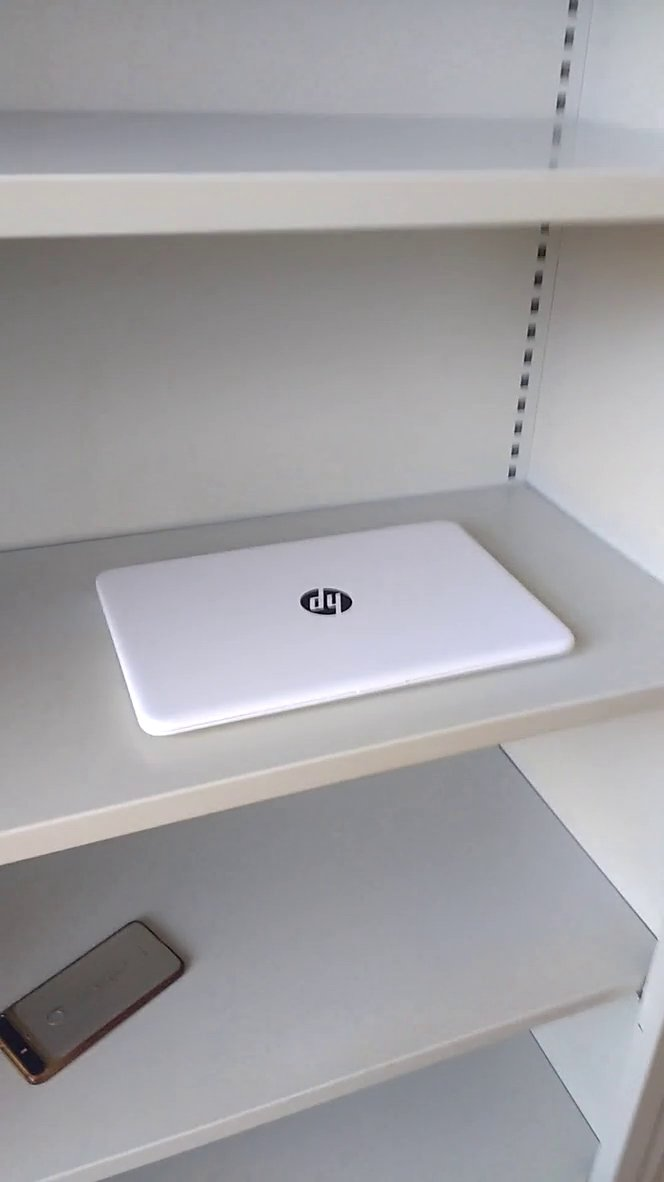laptop: (86, 505, 601, 756)
phone: (1, 901, 220, 1100)
